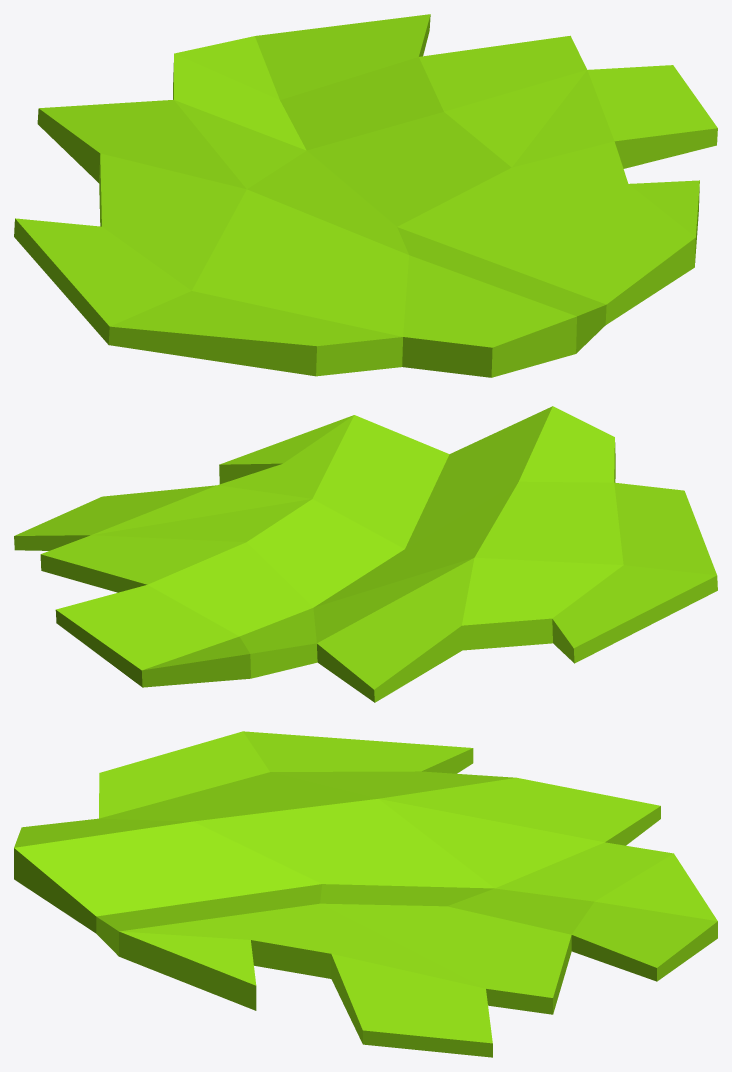
File: Food_LettuceSlice.fbx
3 renders of one model, top to bottom at view 1: azimuth 30°, elevation 25°; view 2: azimuth 150°, elevation 25°; view 3: azimuth 270°, elevation 25°, orthographic. The views are drawn at different scales.
Parts seen in each view (by area): view 1: Food_LettuceSlice; view 2: Food_LettuceSlice; view 3: Food_LettuceSlice.
Part boxes in pixels (left/top/right/bottom): Food_LettuceSlice: left=14, top=14, right=717, bottom=377; Food_LettuceSlice: left=14, top=406, right=717, bottom=702; Food_LettuceSlice: left=14, top=731, right=717, bottom=1057.
Size of the model in its own units: 22.16 by 1.87 by 22.21.
